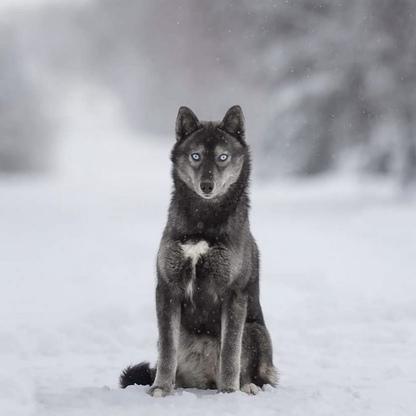husky: (116, 101, 281, 401)
